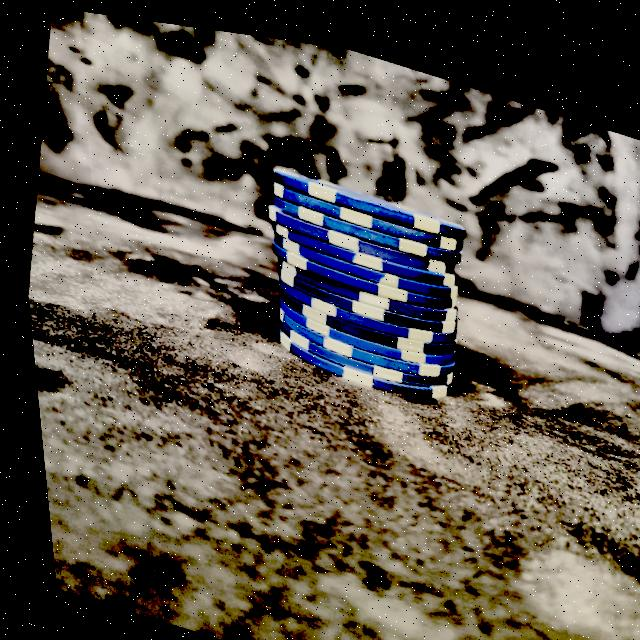Chip: (229, 125, 490, 418)
